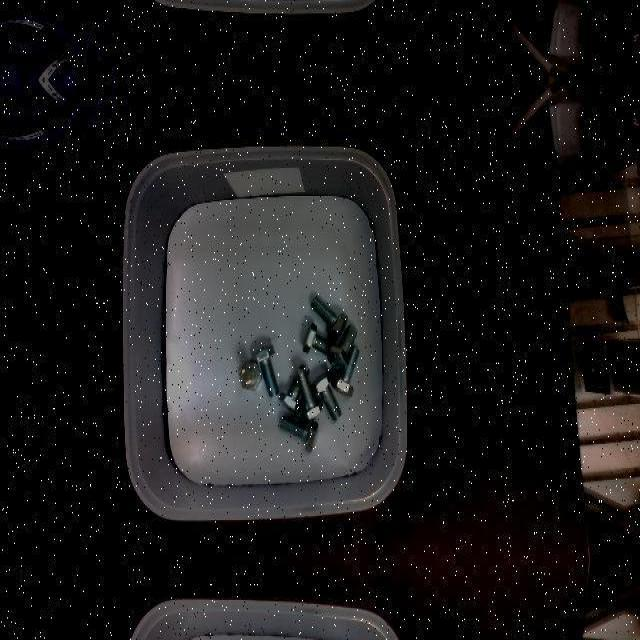screw: (311, 295, 348, 341), (311, 371, 342, 421), (252, 344, 280, 398), (328, 323, 358, 373), (280, 415, 319, 453), (296, 368, 323, 420), (239, 360, 263, 390)
